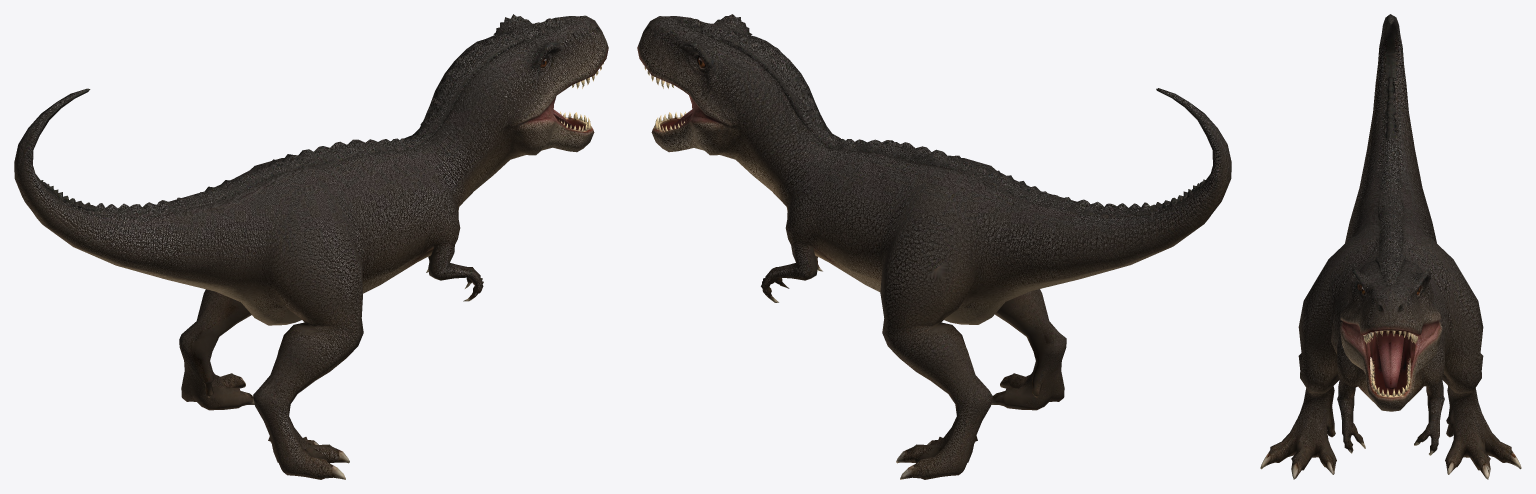
File: trex.glb
3 views of the same model, side by side, from view 1: azimuth 30°, elevation 25°; view 2: azimuth 150°, elevation 25°; view 3: azimuth 270°, elevation 25° (orthographic). The views are drawn at different scales.
Parts seen in each view (by area): view 1: tripo_node_d19c6912-0a48-45e5-b070-eca10a1b102c; view 2: tripo_node_d19c6912-0a48-45e5-b070-eca10a1b102c; view 3: tripo_node_d19c6912-0a48-45e5-b070-eca10a1b102c.
Part boxes in pixels (x1,y1,x2,y2): tripo_node_d19c6912-0a48-45e5-b070-eca10a1b102c: [14, 14, 608, 479]; tripo_node_d19c6912-0a48-45e5-b070-eca10a1b102c: [637, 14, 1231, 479]; tripo_node_d19c6912-0a48-45e5-b070-eca10a1b102c: [1260, 14, 1521, 479].
Size of the model in its own units: 0.998 by 0.6309 by 0.4121.
1 material, 1 textured.
